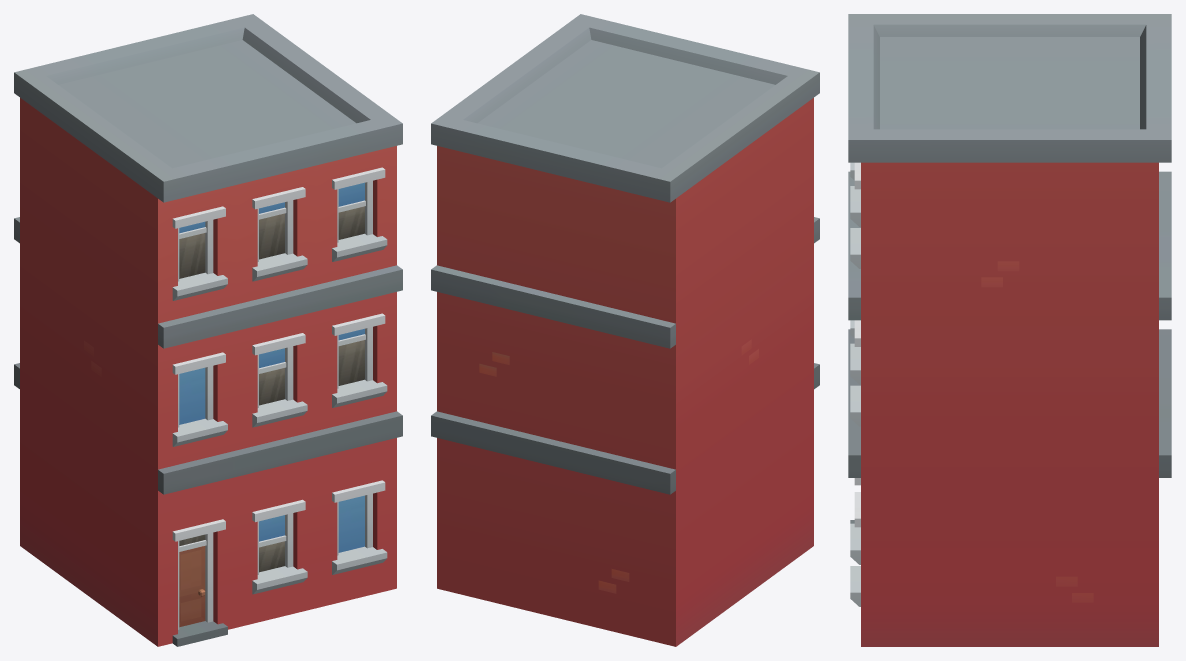
Rendered from kay-predio-c.gltf.
3 views of the same model, side by side, from view 1: azimuth 30°, elevation 25°; view 2: azimuth 150°, elevation 25°; view 3: azimuth 270°, elevation 25° (orthographic). The views are drawn at different scales.
Visible parts, largest first — view 1: building_C_withoutBase; view 2: building_C_withoutBase; view 3: building_C_withoutBase.
Boxes of the visible parts, x1,y1,x2,y2 form: building_C_withoutBase: (14, 14, 402, 646); building_C_withoutBase: (431, 14, 819, 646); building_C_withoutBase: (848, 14, 1171, 646).
Size of the model in its own units: 6.03 by 11.25 by 6.5.
1 material, 1 textured.
